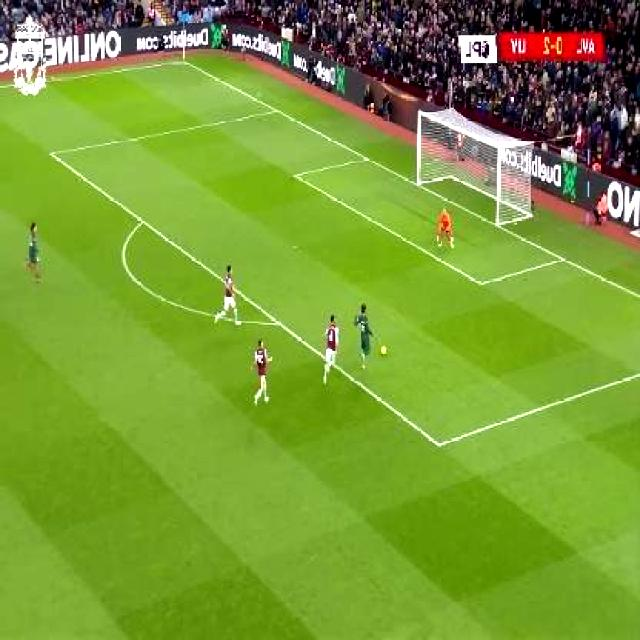bigarea_bottom_inner: (431, 431, 449, 455)
bigarea_top_inner: (45, 142, 60, 163)
bigarea_top_outter: (269, 102, 285, 118)
bottom_arc_area_intersection: (270, 312, 288, 332)
corner: (174, 52, 192, 66)
smallarea_bottom_inner: (474, 269, 492, 294)
smallarea_bottom_outter: (554, 246, 572, 269)
smallarea_top_inner: (289, 165, 305, 183)
smallarea_top_outter: (360, 148, 375, 166)
top_arc_area_intersection: (135, 211, 151, 229)
